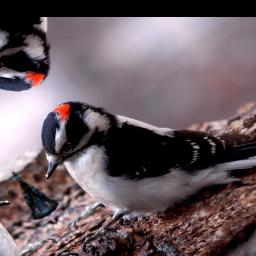Woodpecker: (4, 26, 256, 256)
